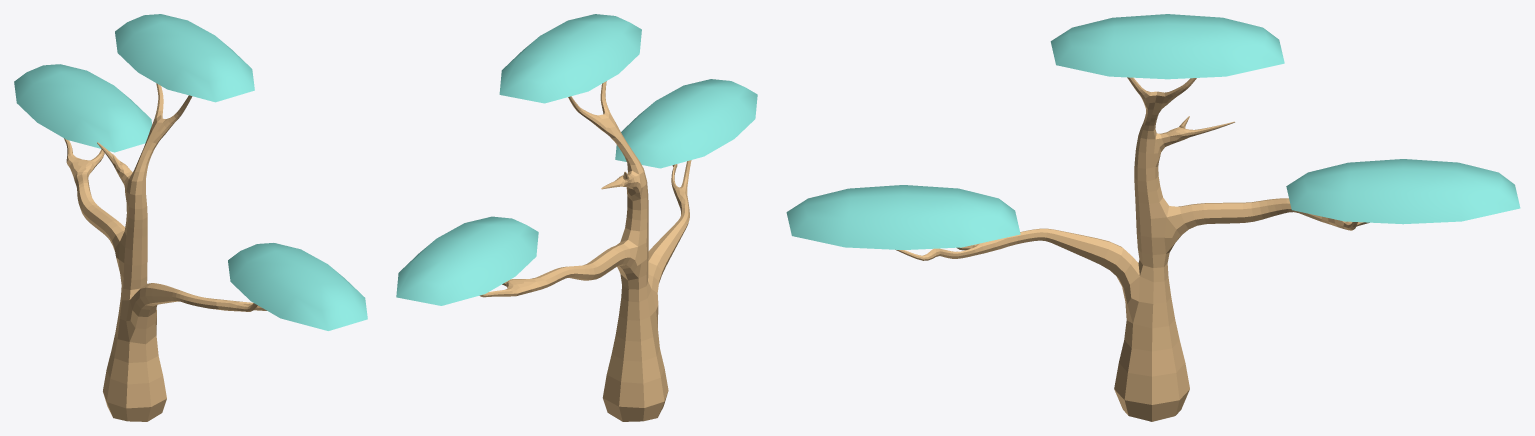
The model's file is SimpleTree.glb.
3 views of the same model, side by side, from view 1: azimuth 30°, elevation 25°; view 2: azimuth 150°, elevation 25°; view 3: azimuth 270°, elevation 25° (orthographic). The views are drawn at different scales.
Visible parts, largest first — view 1: trunk, platformTopLeaf, platformLeftLeaf, platformRightLeaf; view 2: trunk, platformRightLeaf, platformTopLeaf, platformLeftLeaf; view 3: trunk, platformRightLeaf, platformTopLeaf, platformLeftLeaf.
Boxes of the visible parts, x1=… form: trunk: x1=64, y1=83, x2=266, y2=421; platformTopLeaf: x1=115, y1=14, x2=254, y2=102; platformLeftLeaf: x1=228, y1=243, x2=367, y2=330; platformRightLeaf: x1=14, y1=64, x2=151, y2=152; trunk: x1=479, y1=81, x2=691, y2=421; platformRightLeaf: x1=396, y1=216, x2=538, y2=305; platformTopLeaf: x1=499, y1=14, x2=641, y2=103; platformLeftLeaf: x1=615, y1=79, x2=757, y2=168; trunk: x1=895, y1=77, x2=1369, y2=421; platformRightLeaf: x1=1286, y1=159, x2=1520, y2=224; platformTopLeaf: x1=1050, y1=14, x2=1284, y2=79; platformLeftLeaf: x1=786, y1=185, x2=1020, y2=249.
Size of the model in its own units: 2.73 by 7.19 by 11.25.
